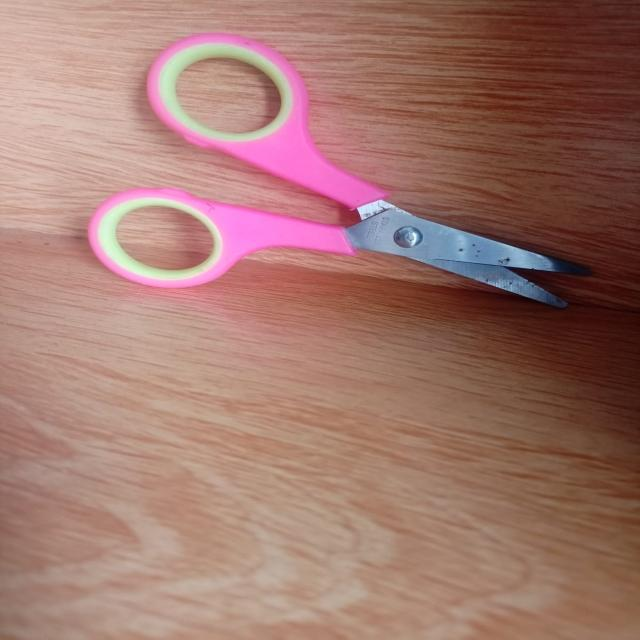scissor: (68, 13, 616, 334)
